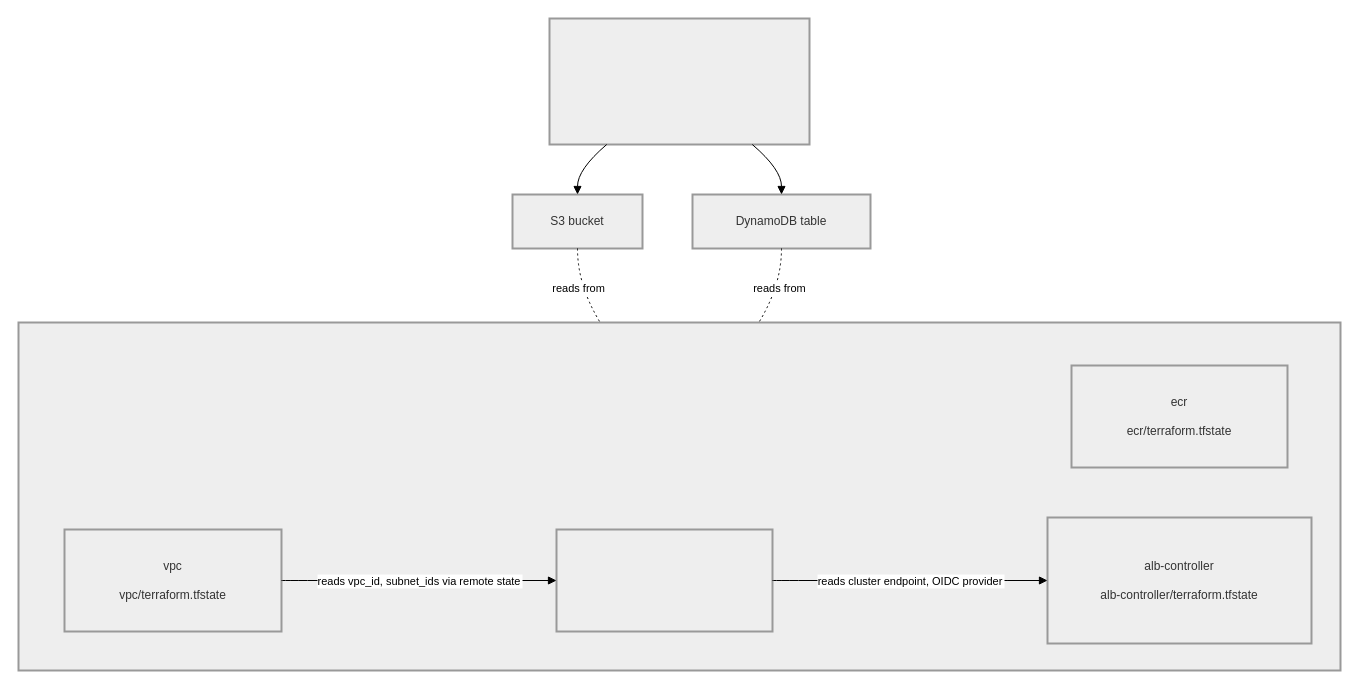
This 1358x688 diagram has some shape labels left out. Each missing label, with the box of its shape:
bootstrap (never run again - local state only): (548, 17, 810, 145)
eks eks/terraform.tfstate: (555, 528, 773, 632)
Terraform Modules: (17, 321, 1341, 671)
